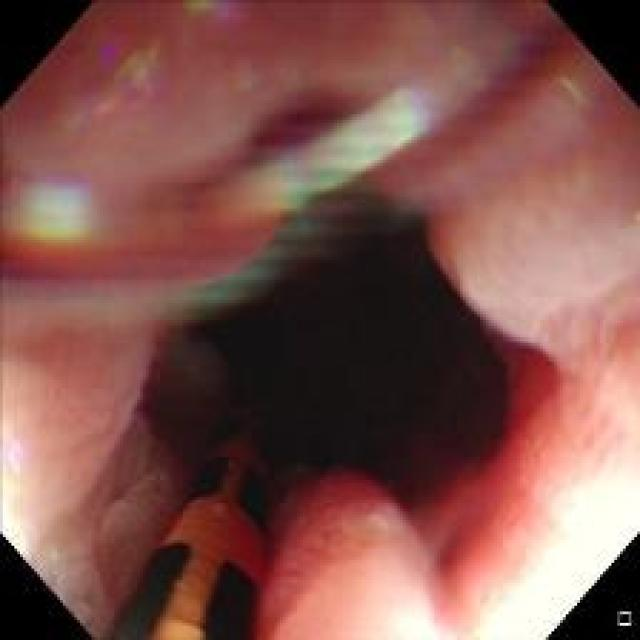color misalignment: (5, 170, 301, 312), (301, 102, 420, 199), (416, 20, 520, 119), (100, 20, 166, 114), (46, 91, 90, 138), (552, 66, 591, 108), (178, 0, 238, 26)
contrast: (146, 316, 508, 502), (302, 199, 469, 319)
instrument: (101, 392, 281, 638)
saturation: (475, 465, 639, 635), (1, 362, 46, 558), (366, 581, 439, 636)
